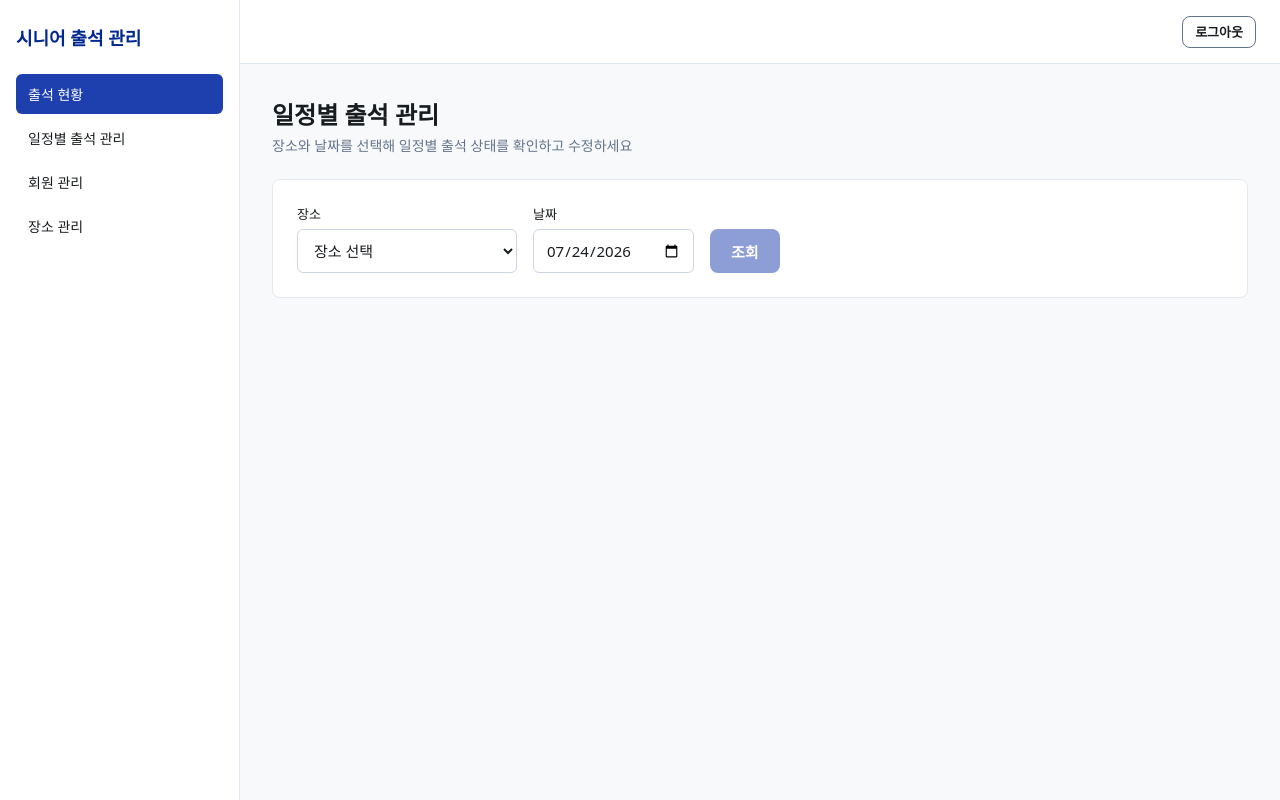
AttendManagementPage › 일정이 없으면(404) 안내 문구를 보여준다
Select "행복경로당" in the dropdown labelled "장소" at (407, 251), box top-left (297, 229), bottom-right (517, 273)
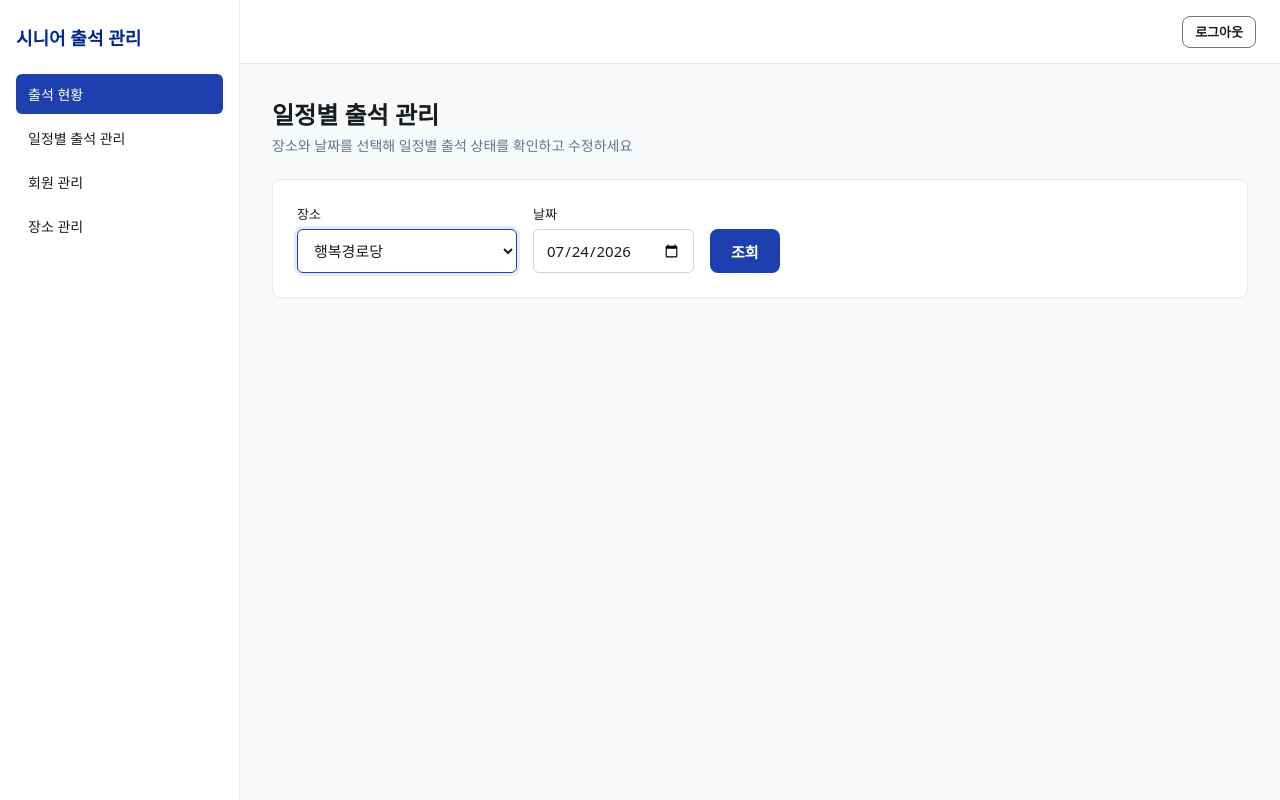
Type "2026-07-20" into the date field labelled "날짜".
click(614, 251); type("2026-07-20")  # box top-left (533, 229), bottom-right (694, 273)
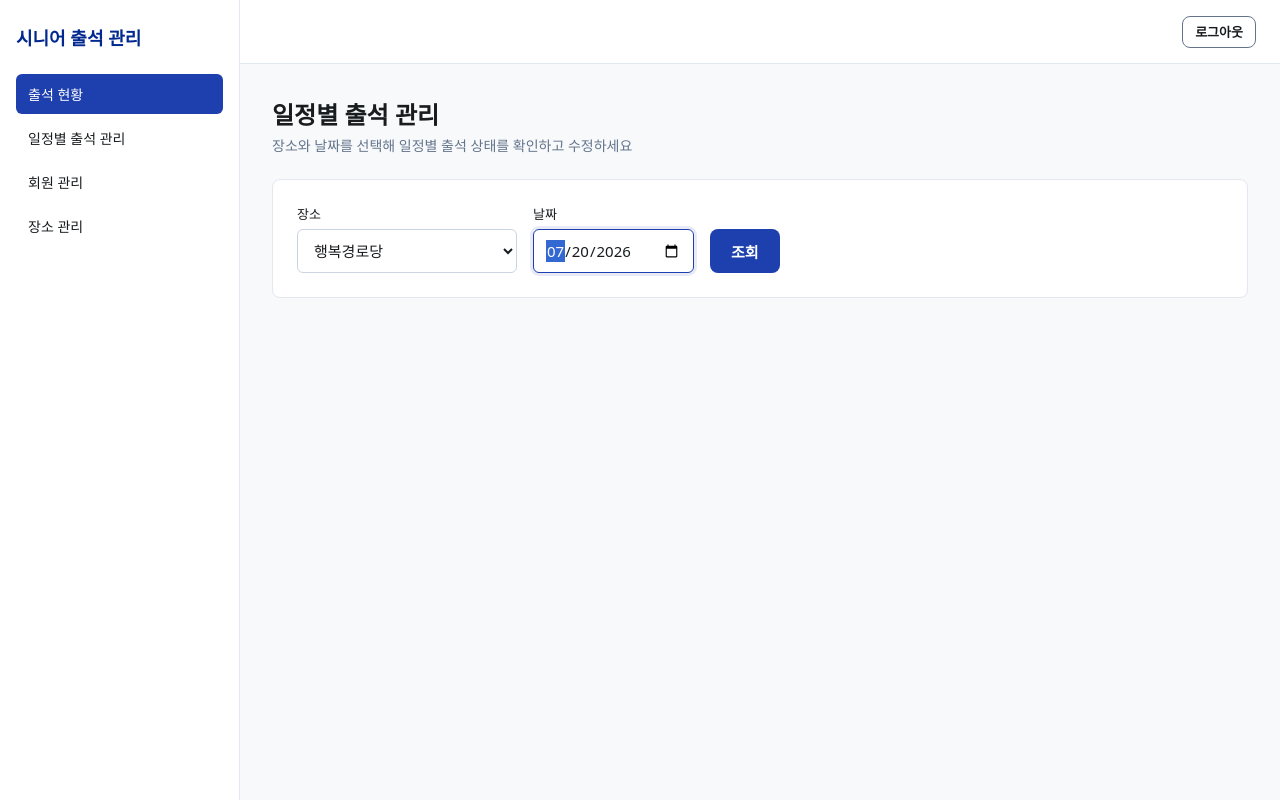
Click the button "조회".
click(745, 251)  # box top-left (710, 229), bottom-right (780, 273)
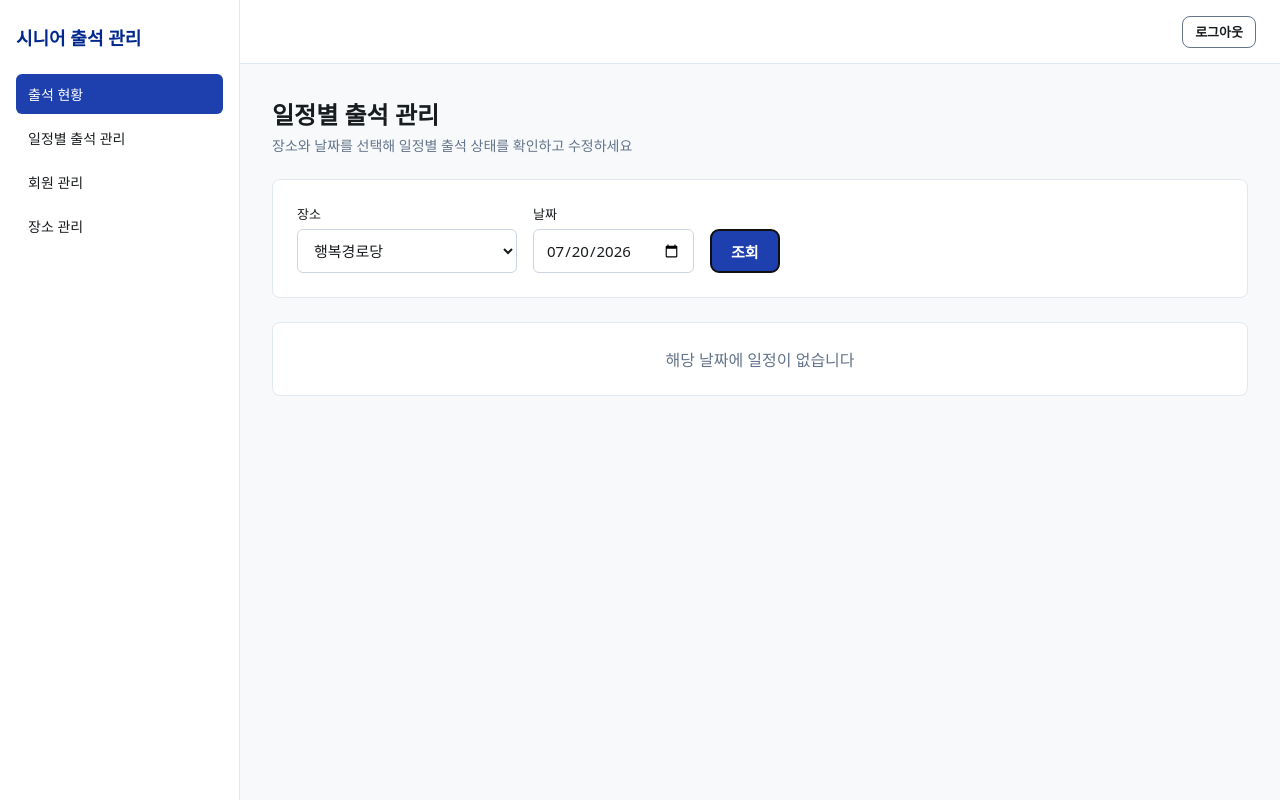
Check: the text "해당 날짜에 일정이 없습니다" is shown, box top-left (272, 322), bottom-right (1248, 396)
